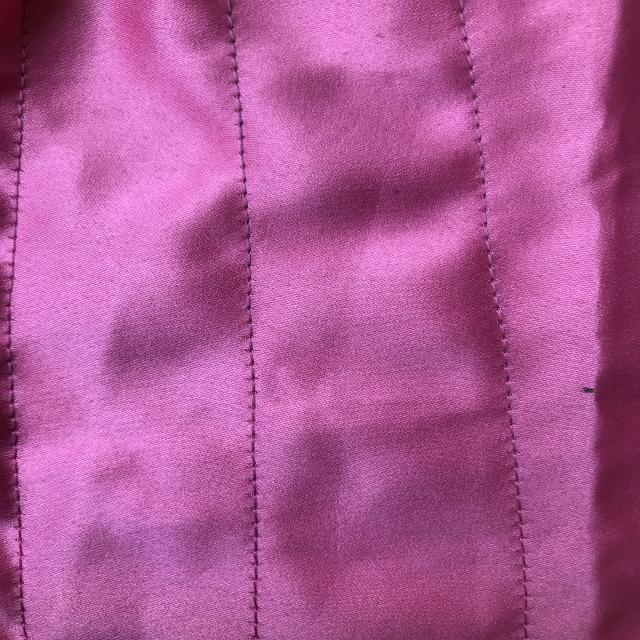good: (473, 256, 535, 386), (240, 488, 278, 622)
